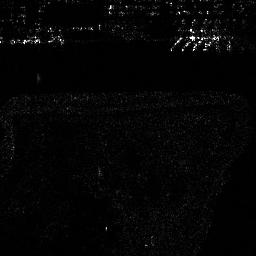ship: (8, 34, 67, 47)
